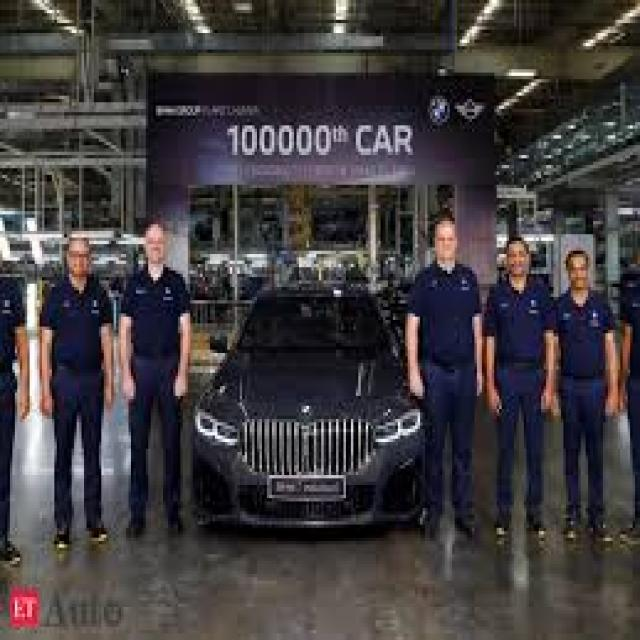SUV: (195, 286, 440, 540)
